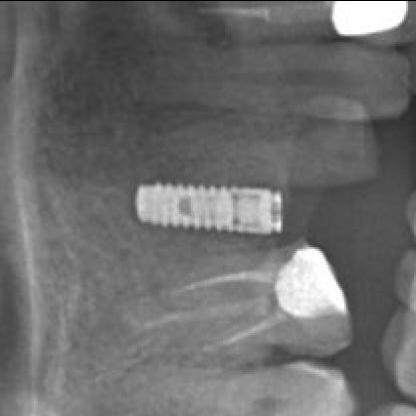ITI: (132, 167, 286, 238)
